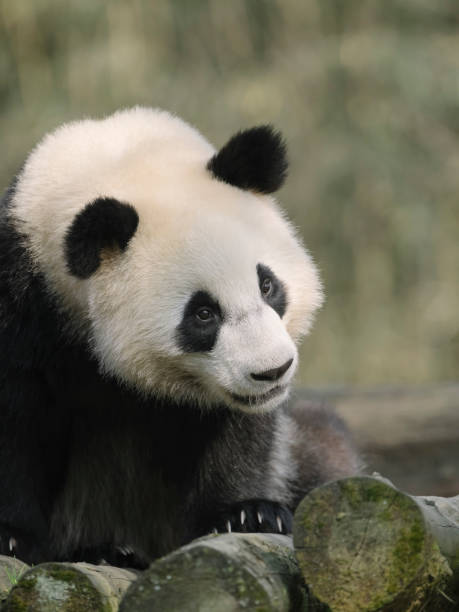panda: (13, 100, 353, 442)
